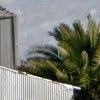Palm tree: (40, 15, 100, 91)
